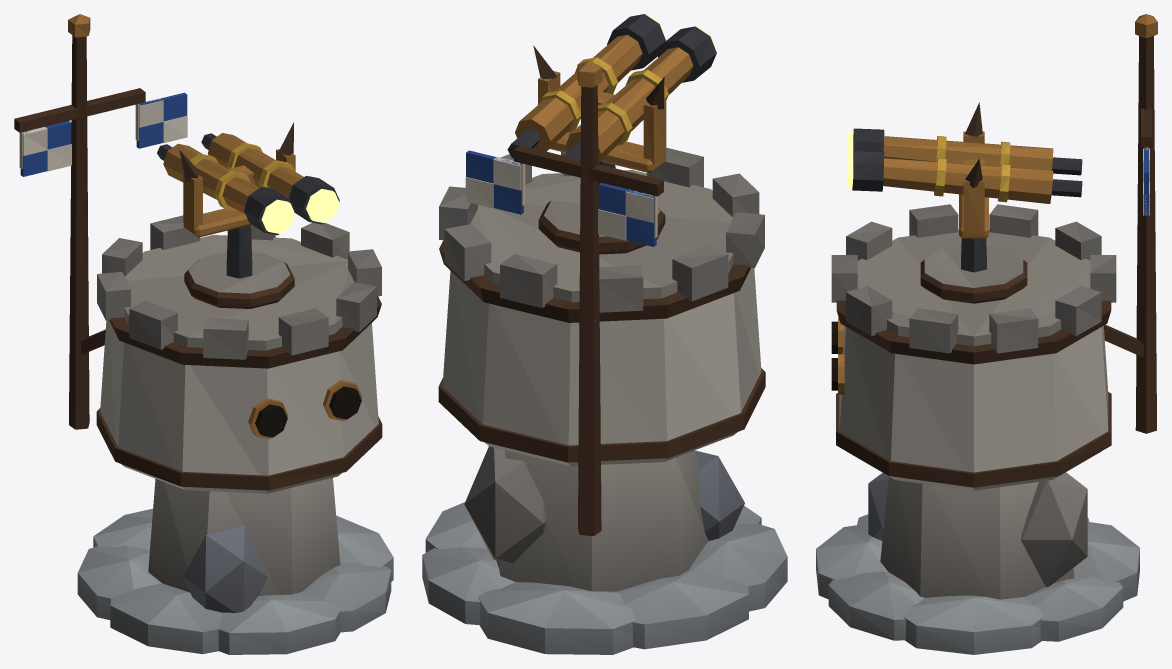
Rendered from twin_gaze.glb.
3 renders of one model, left to right at view 1: azimuth 30°, elevation 25°; view 2: azimuth 150°, elevation 25°; view 3: azimuth 270°, elevation 25°, orthographic. The views are drawn at different scales.
Visible parts, largest first — view 1: twin_gaze; view 2: twin_gaze; view 3: twin_gaze.
Boxes of the visible parts, x1,y1,x2,y2 form: twin_gaze: [14, 14, 393, 654]; twin_gaze: [422, 14, 787, 654]; twin_gaze: [816, 14, 1157, 654].
Bounding box in the file's own units: 0.7464 × 1.4 × 0.7922.
